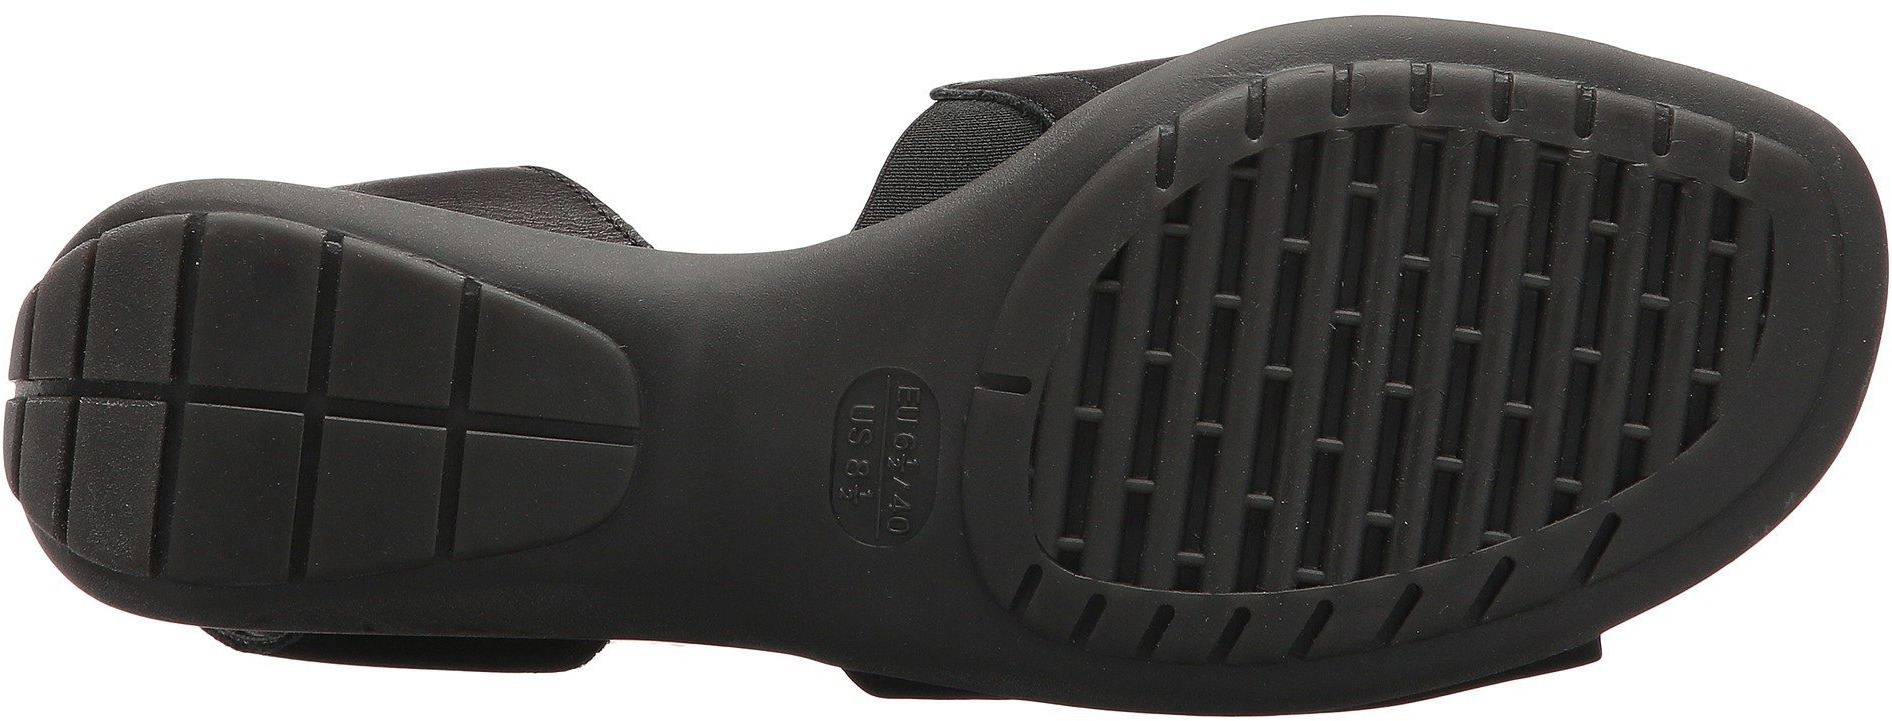other: (677, 264, 821, 412)
quad: (95, 234, 364, 528), (389, 274, 662, 535)
text: (822, 394, 940, 506)
